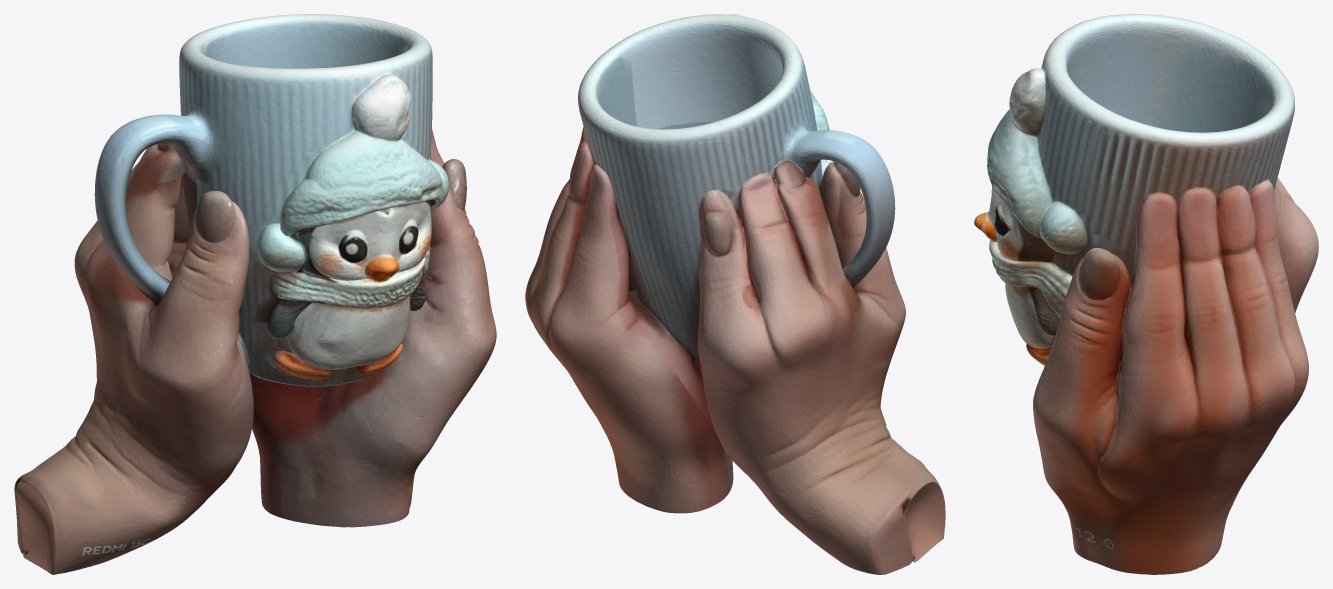
File: kruzhka.glb
The picture shows the model from 3 angles, left to right: view 1: azimuth 30°, elevation 25°; view 2: azimuth 150°, elevation 25°; view 3: azimuth 270°, elevation 25°; orthographic projection. The views are drawn at different scales.
Visible parts, largest first — view 1: aiprintgen_tmphqncve27.obj; view 2: aiprintgen_tmphqncve27.obj; view 3: aiprintgen_tmphqncve27.obj.
Part boxes in pixels (bbox=[...]): aiprintgen_tmphqncve27.obj: bbox=[14, 14, 496, 574]; aiprintgen_tmphqncve27.obj: bbox=[525, 14, 945, 574]; aiprintgen_tmphqncve27.obj: bbox=[974, 14, 1318, 574].
Size of the model in its own units: 1.29 by 1.39 by 0.8914.
Materials: 1 (1 with a texture image).
